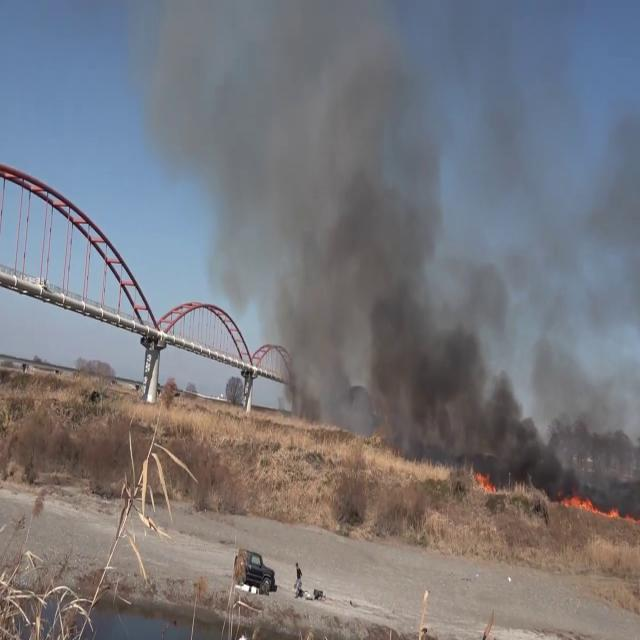Fire: (560, 485, 598, 519), (471, 459, 499, 494)
Smoke: (136, 0, 640, 470)
